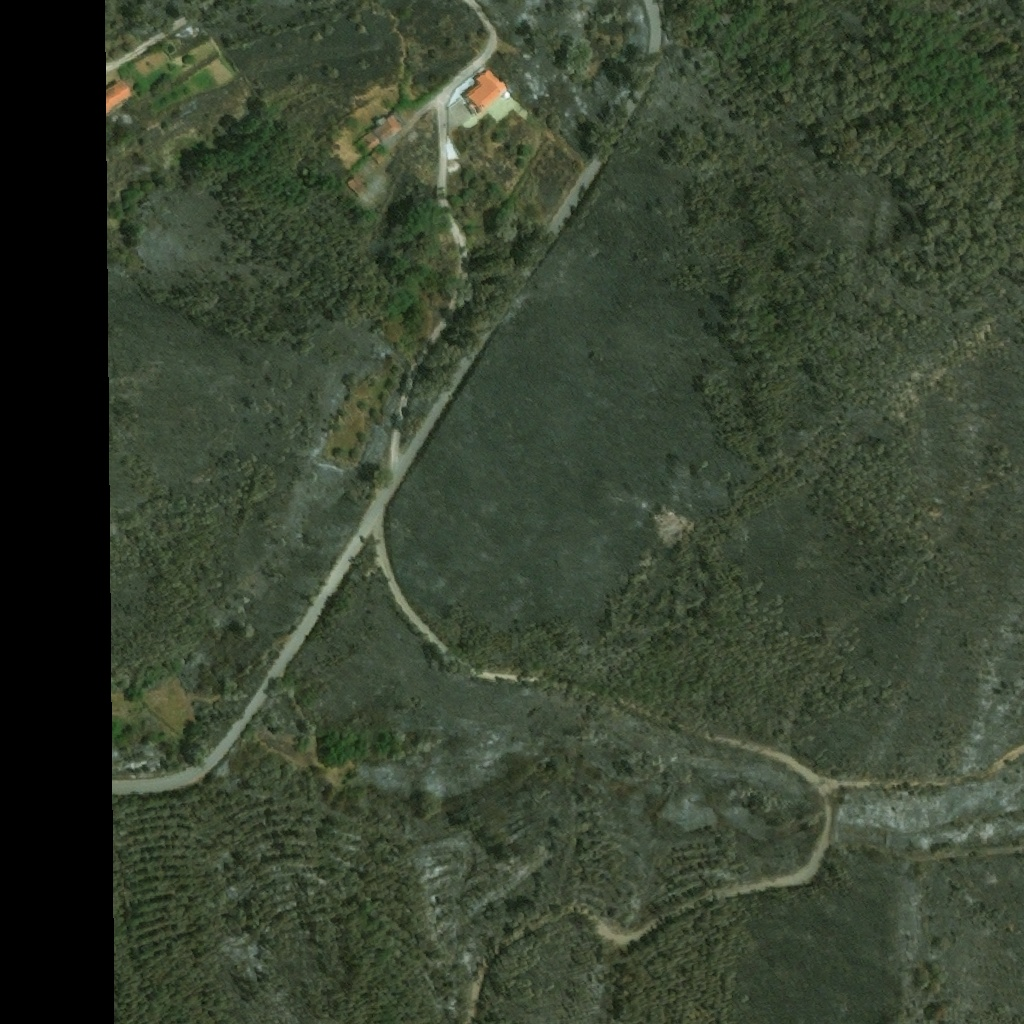0 no-damage: (461, 67, 511, 116), (373, 113, 403, 146), (355, 132, 381, 156), (112, 80, 131, 107), (347, 176, 367, 197), (500, 89, 512, 102)
4 un-classified: (165, 14, 189, 32), (182, 25, 203, 44), (115, 111, 133, 127)
